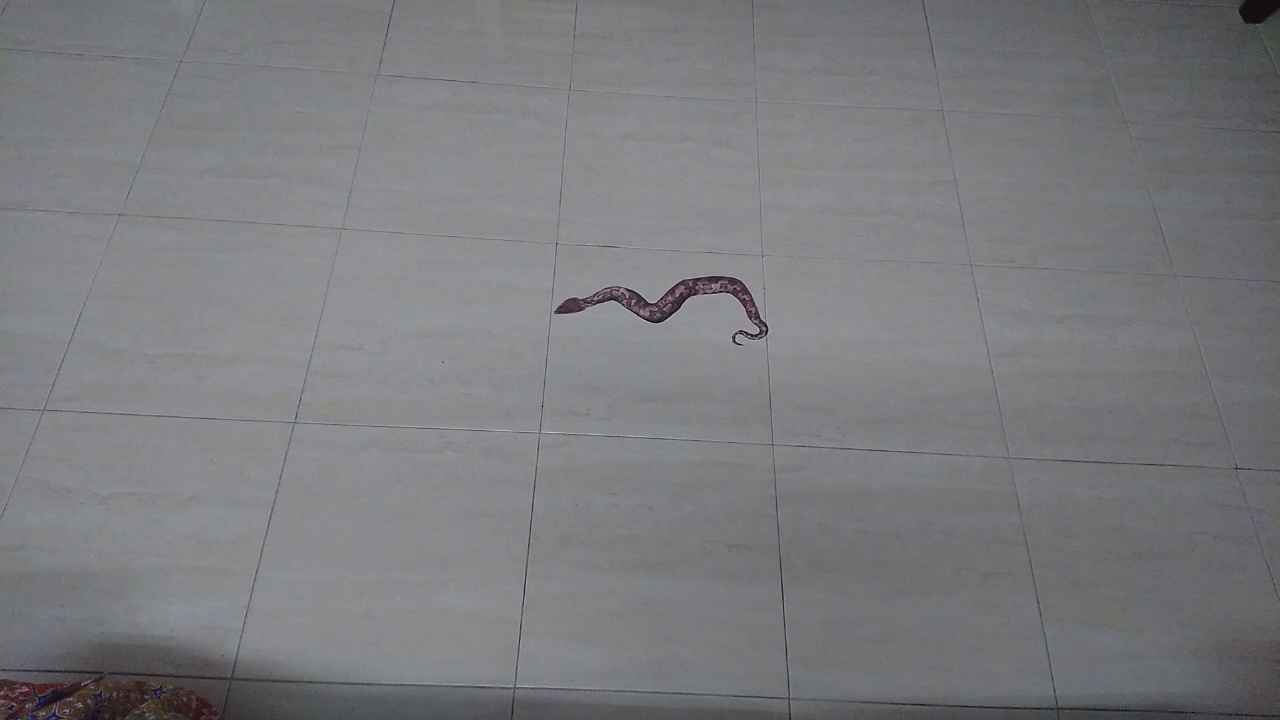snake: (538, 261, 785, 363)
